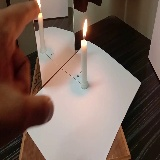fire: (83, 21, 88, 40)
